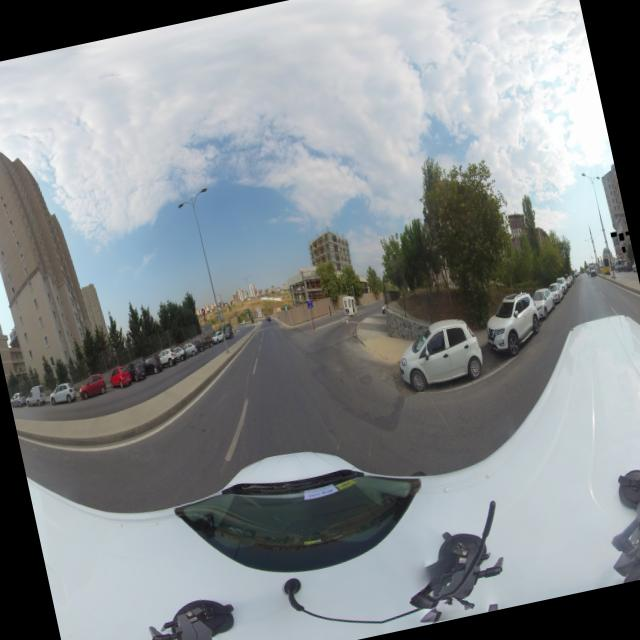SignStore: (611, 231, 617, 237), (619, 232, 623, 241), (614, 244, 621, 249), (622, 246, 625, 252), (625, 231, 629, 235)
